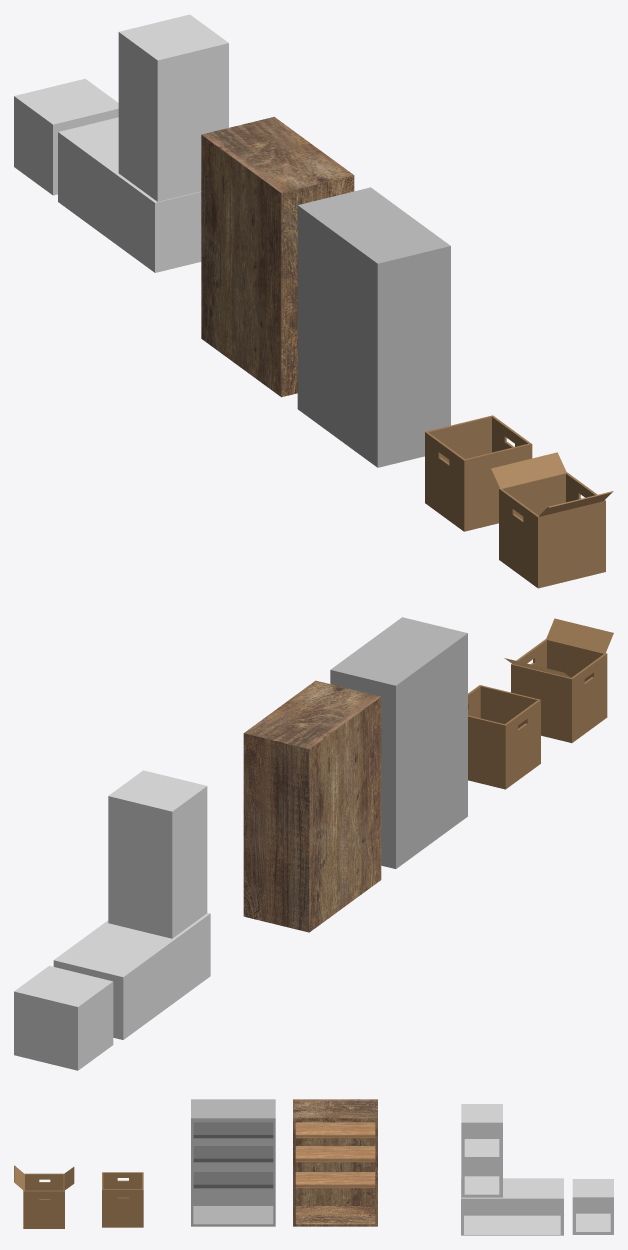
File: Reoler_Boxesfbx.fbx
3 renders of one model, top to bottom at view 1: azimuth 30°, elevation 25°; view 2: azimuth 150°, elevation 25°; view 3: azimuth 270°, elevation 25°, orthographic. The views are drawn at different scales.
Visible parts, largest first — view 1: MetalReol, TræReol, TwoCube, Reol2, FlyttekasseMFlapper, Flyttekasse, Cube; view 2: TræReol, MetalReol, TwoCube, Reol2, FlyttekasseMFlapper, Cube, Flyttekasse; view 3: MetalReol, TræReol, Reol2, TwoCube, FlyttekasseMFlapper, Cube, Flyttekasse.
Part boxes in pixels (bbox=[...]): MetalReol: bbox=[297, 187, 450, 467]; TræReol: bbox=[201, 116, 354, 397]; TwoCube: bbox=[118, 14, 228, 201]; Reol2: bbox=[58, 117, 201, 272]; FlyttekasseMFlapper: bbox=[491, 452, 613, 588]; Flyttekasse: bbox=[425, 415, 532, 531]; Cube: bbox=[14, 78, 118, 195]; TræReol: bbox=[243, 680, 381, 932]; MetalReol: bbox=[330, 617, 467, 868]; TwoCube: bbox=[108, 770, 207, 938]; Reol2: bbox=[53, 913, 210, 1039]; FlyttekasseMFlapper: bbox=[504, 618, 613, 742]; Cube: bbox=[14, 966, 113, 1070]; Flyttekasse: bbox=[468, 685, 540, 789]; MetalReol: bbox=[191, 1099, 275, 1226]; TræReol: bbox=[293, 1099, 377, 1226]; Reol2: bbox=[461, 1178, 563, 1235]; TwoCube: bbox=[461, 1104, 502, 1197]; FlyttekasseMFlapper: bbox=[14, 1165, 74, 1228]; Cube: bbox=[572, 1179, 613, 1234]; Flyttekasse: bbox=[102, 1172, 143, 1227].
Bounding box in the file's own units: 571 × 1084 × 5100.
5 materials, 2 textured.
